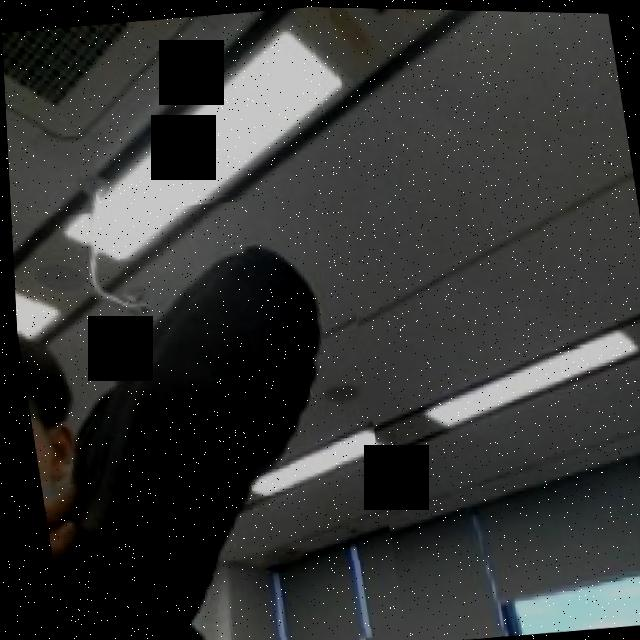shoe: (8, 185, 400, 640)
